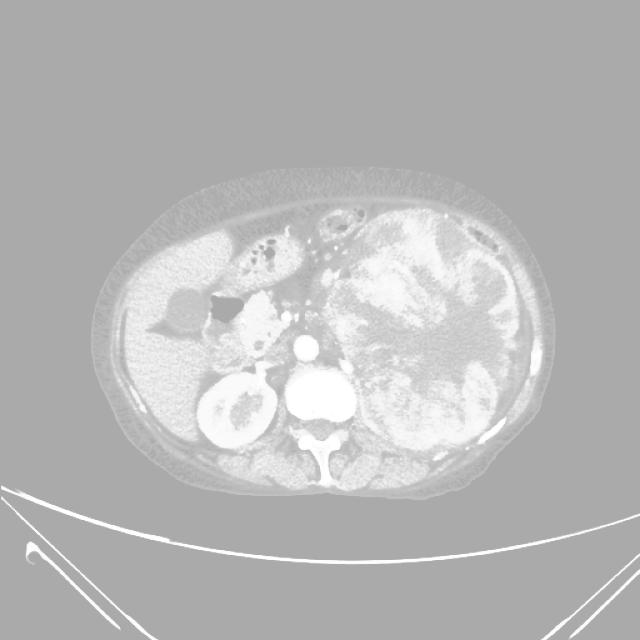TUMOR: (132, 224, 364, 456)
